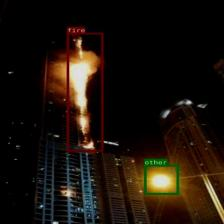fire: (66, 32, 103, 151)
